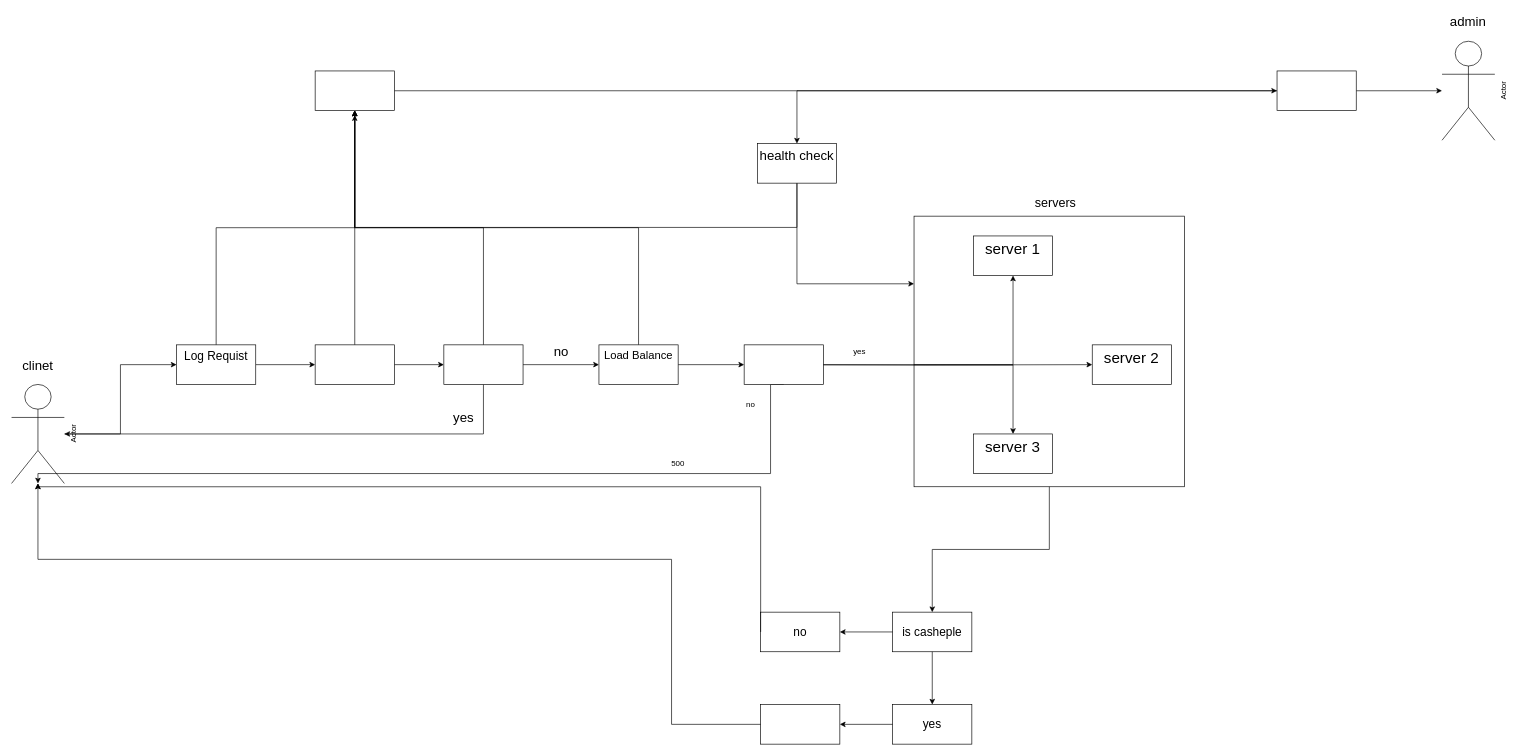
This 1520x756 diagram has some shape labels left out. Here are the shapes that lost their labels. From the top down, the box of each, then its label:
(314, 70, 394, 111): Update Data
(1276, 70, 1356, 111): dashboard
(314, 344, 394, 384): Rate Limit
(443, 344, 523, 384): if cach
(743, 344, 823, 384): If Servers
(760, 704, 840, 744): cash requist
